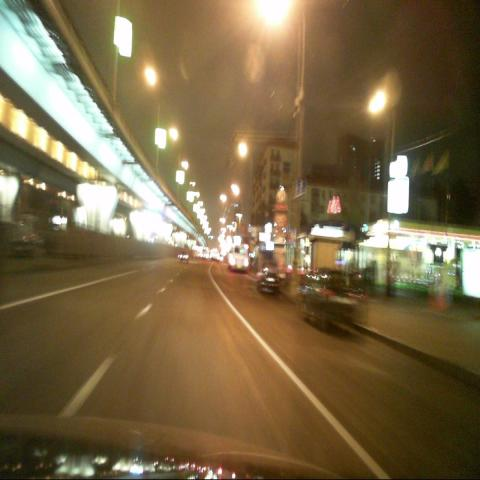6_6: (296, 178, 306, 198)
